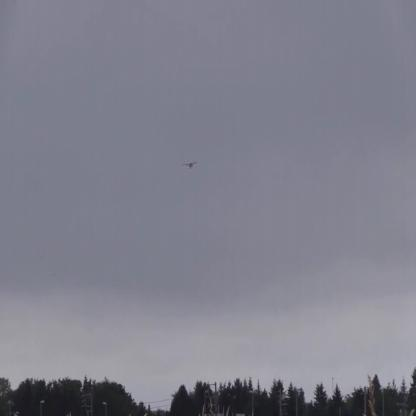plane: (183, 162, 199, 170)
